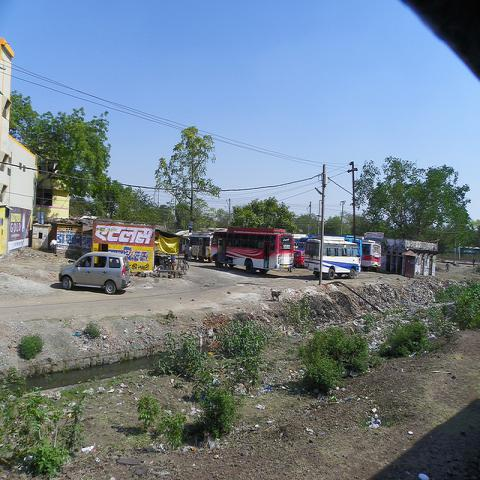bus: (210, 226, 296, 276), (304, 235, 360, 279), (360, 240, 382, 271)
car: (58, 252, 131, 294), (294, 250, 305, 267)
